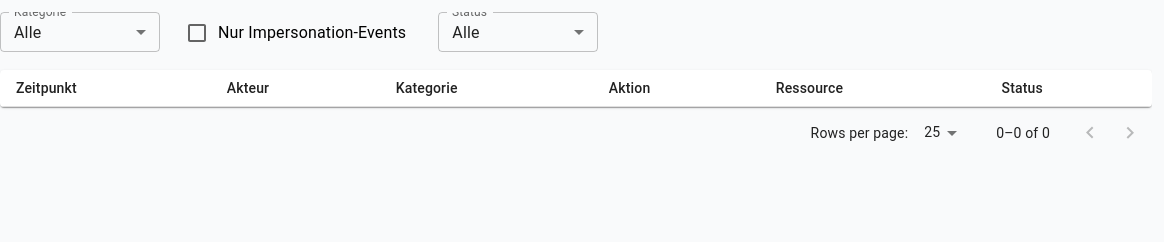
Test case: AuditLogView — German copy (TF-775) › offers the status filter values translated
This screenshot has width=1164, height=242.
Click the 2nd dropdown labelled "Alle": (466, 32) [452,22,480,42]
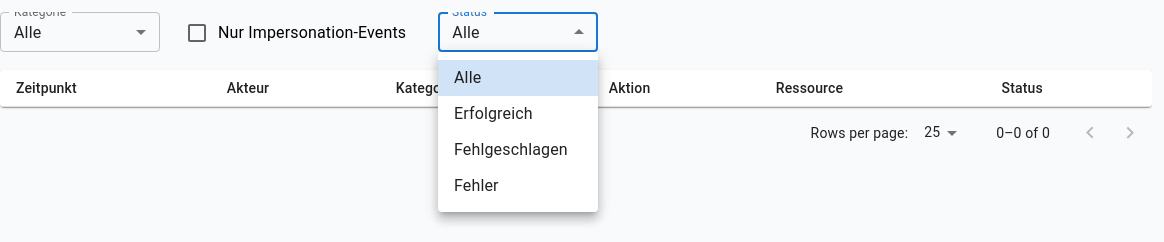
Expected: the options read "Alle", "Erfolgreich", "Fehlgeschlagen", "Fehler", in this order, [438,60,598,96]; [454,104,533,123]; [454,140,568,159]; [454,176,499,195]
